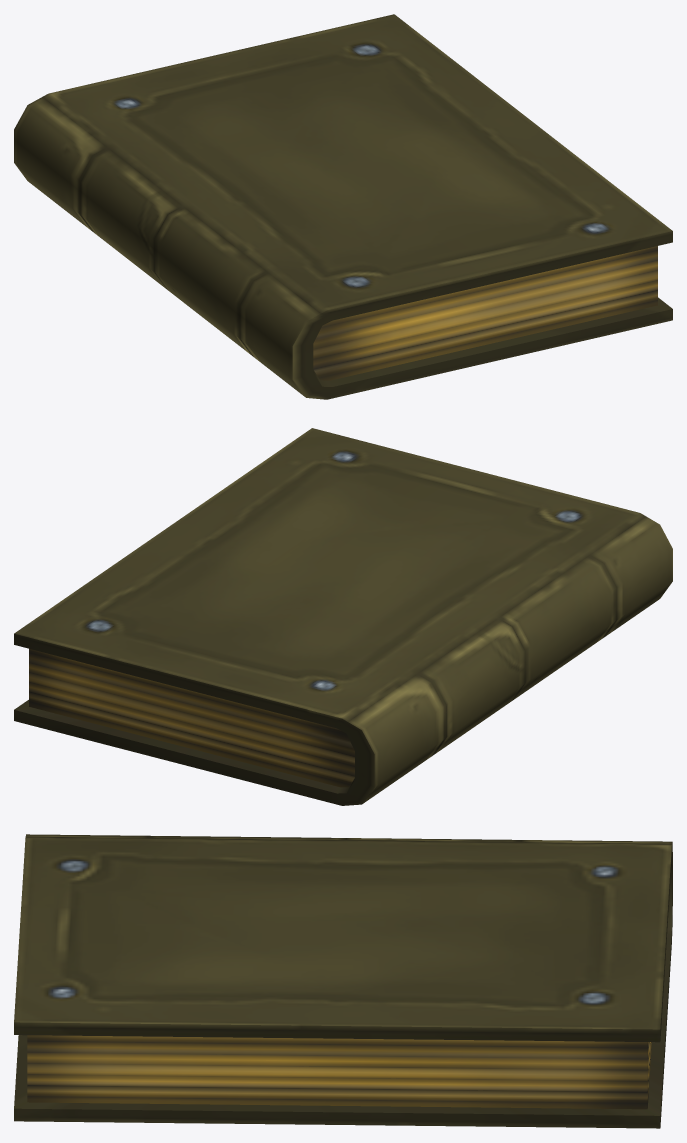
The model's file is Prop_b.FBX.
3 renders of one model, top to bottom at view 1: azimuth 30°, elevation 25°; view 2: azimuth 150°, elevation 25°; view 3: azimuth 270°, elevation 25°, orthographic. The views are drawn at different scales.
Parts seen in each view (by area): view 1: Prop_b; view 2: Prop_b; view 3: Prop_b.
Boxes of the visible parts, x1,y1,x2,y2 form: Prop_b: (14, 14, 672, 399); Prop_b: (14, 428, 672, 805); Prop_b: (14, 834, 672, 1128).
Bounding box in the file's own units: 22.83 × 5.02 × 30.32.
